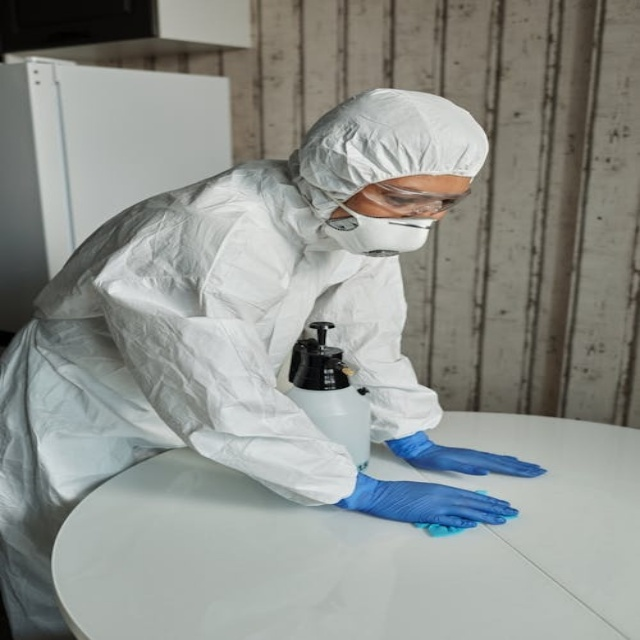Gafas: (341, 180, 472, 220)
Guantes: (332, 462, 532, 546), (370, 417, 556, 481)
Mascara: (321, 194, 440, 257)
